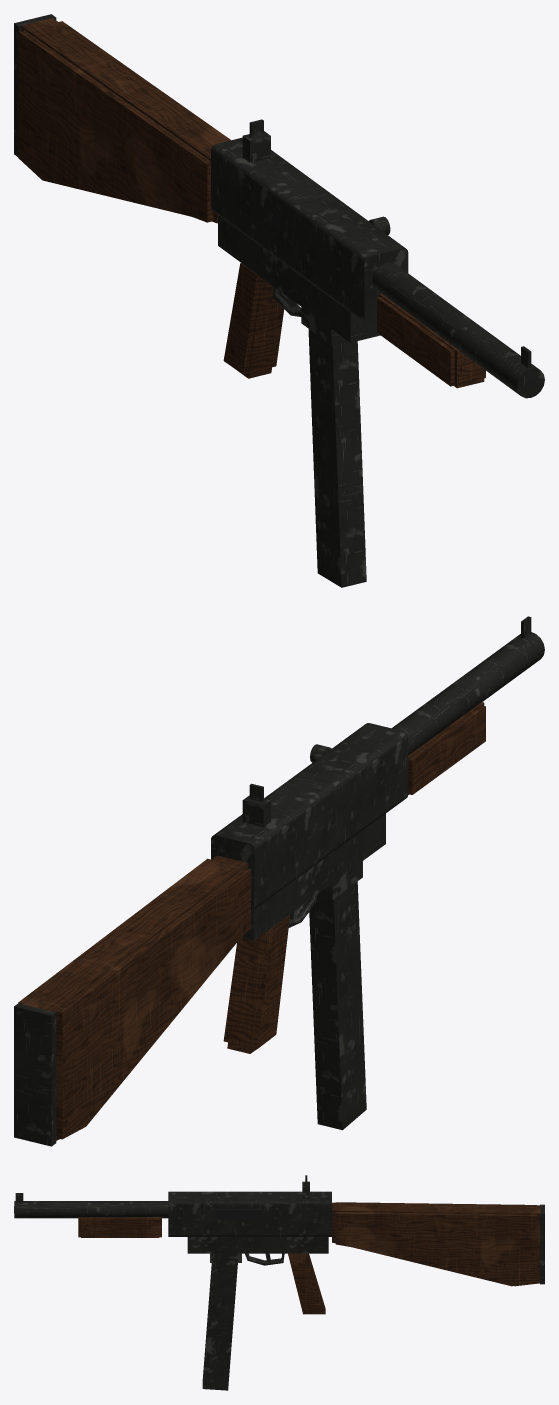
File: thompson.glb
3 renders of one model, top to bottom at view 1: azimuth 30°, elevation 25°; view 2: azimuth 150°, elevation 25°; view 3: azimuth 270°, elevation 25°, orthographic. The views are drawn at different scales.
Visible parts, largest first — view 1: Thompson_M1A1; view 2: Thompson_M1A1; view 3: Thompson_M1A1.
Boxes of the visible parts, x1,y1,x2,y2 form: Thompson_M1A1: (14,14,544,587); Thompson_M1A1: (14,616,544,1146); Thompson_M1A1: (14,1175,544,1390).
Size of the model in its own units: 0.055 by 0.3618 by 0.8275.
3 materials, 2 textured.
